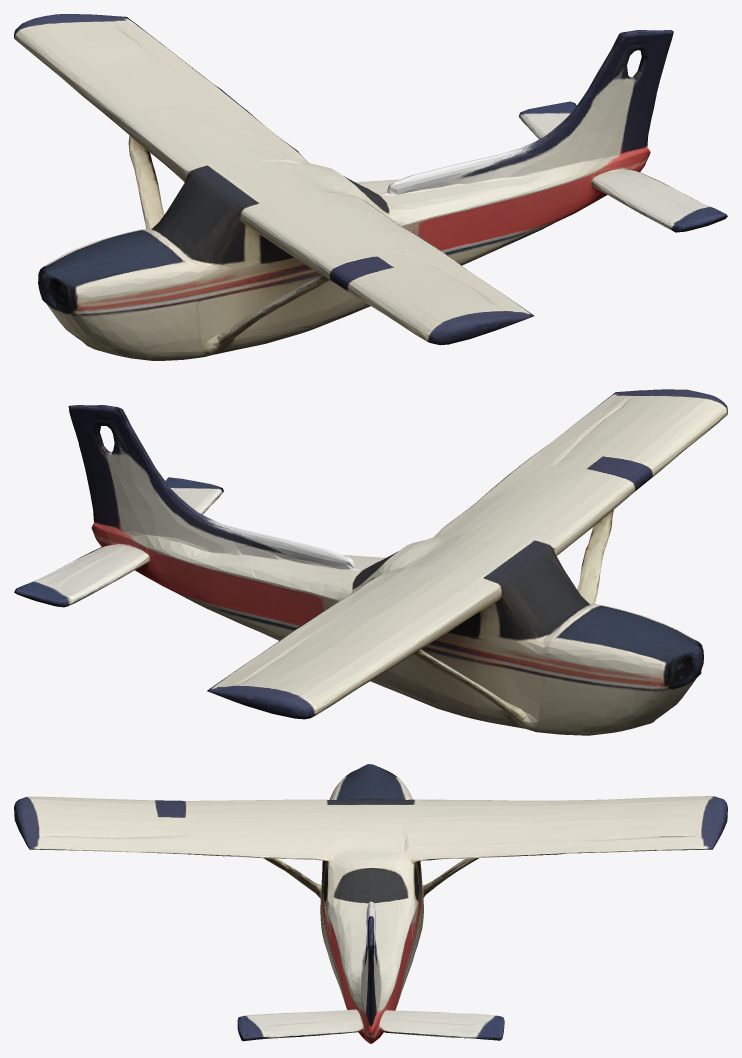
File: plane_body.glb
3 renders of one model, top to bottom at view 1: azimuth 30°, elevation 25°; view 2: azimuth 150°, elevation 25°; view 3: azimuth 270°, elevation 25°, orthographic. The views are drawn at different scales.
Parts seen in each view (by area): view 1: world; view 2: world; view 3: world.
Part boxes in pixels (x1=…): world: x1=14, y1=14, x2=727, y2=360; world: x1=14, y1=389, x2=727, y2=735; world: x1=14, y1=764, x2=727, y2=1043.
Size of the model in its own units: 0.5974 by 0.1831 by 0.6997.
1 material, 1 textured.
